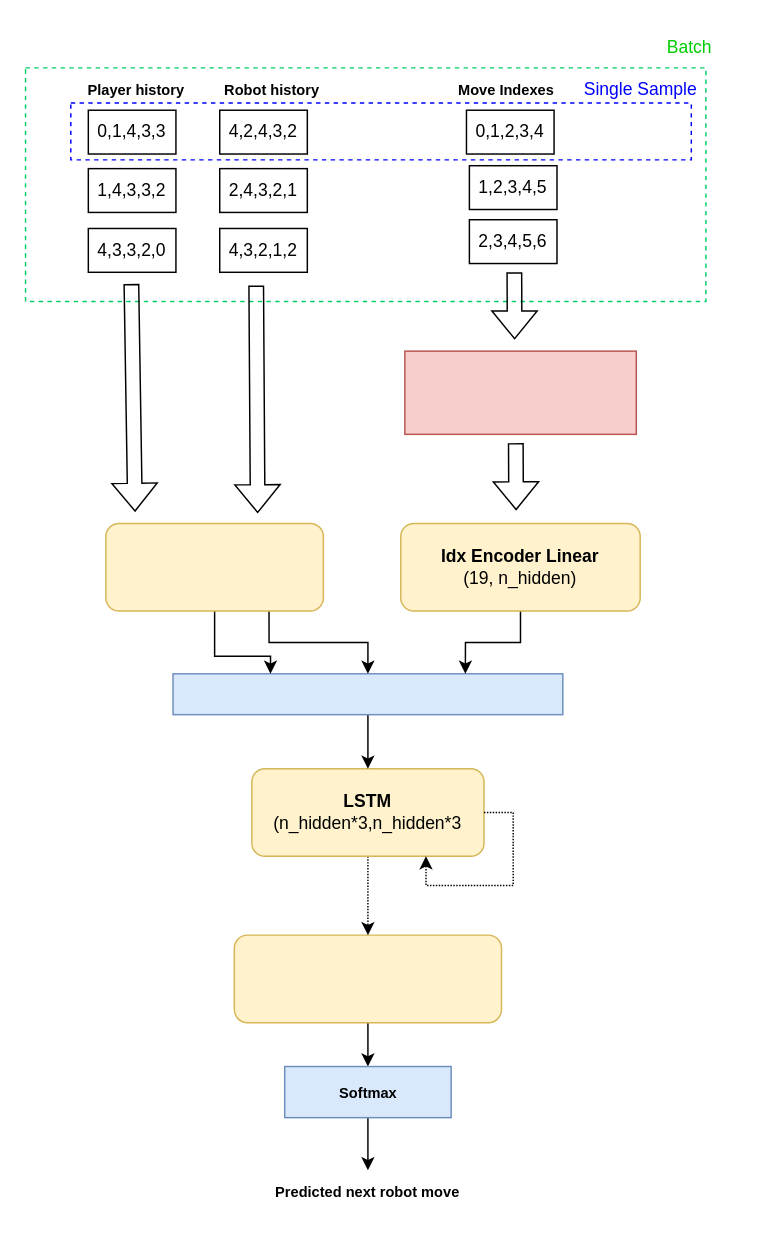
Image size: 759x1238. Some labels were removed from this diagram. Here are the shapes that lost their labels. From the top down, the centre of each, then its label:
pixel 519 392: Encode divisibility by numbers 2 to 20 into a 19-dim boolean vector
pixel 213 566: Embedding (move_type_cnt,n_hidden
pixel 367 693: Concatenate , dim=2
pixel 367 978: Out Linear (n_hidden*3, move_type_cnt)
